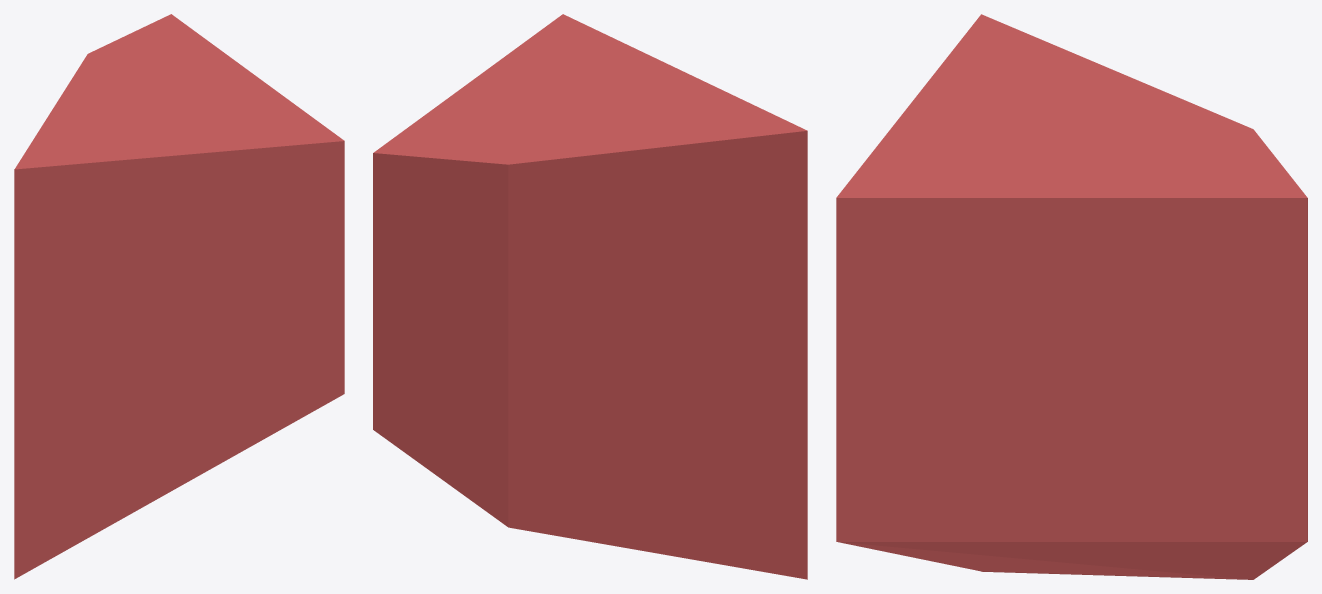
3 views of the same model, side by side, from view 1: azimuth 30°, elevation 25°; view 2: azimuth 150°, elevation 25°; view 3: azimuth 270°, elevation 25° (orthographic). The views are drawn at different scales.
Parts seen in each view (by area): view 1: kb3_g_col; view 2: kb3_g_col; view 3: kb3_g_col.
Boxes of the visible parts, left/top/right/bottom form: kb3_g_col: left=14, top=14, right=344, bottom=579; kb3_g_col: left=373, top=14, right=807, bottom=579; kb3_g_col: left=836, top=14, right=1307, bottom=579.
Bounding box in the file's own units: 1.85 × 2.61 × 2.
